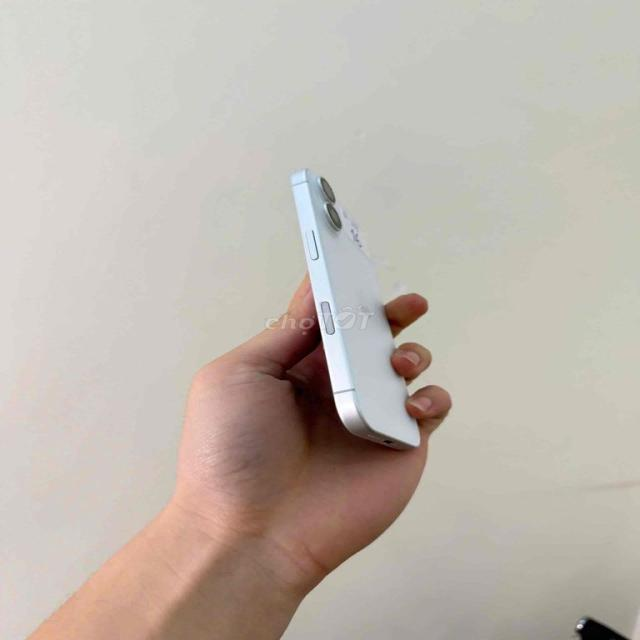gen_16: (281, 159, 445, 468)
